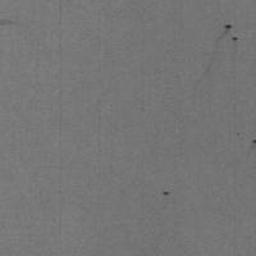Inclusion: (205, 23, 239, 73), (0, 18, 18, 27), (250, 138, 256, 151), (161, 189, 170, 197)
